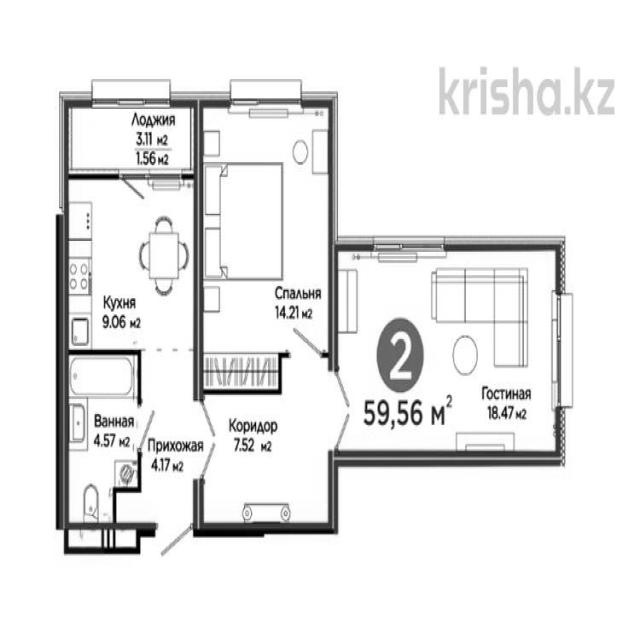balcony: (65, 99, 196, 174)
bathroom: (64, 353, 140, 523)
hallway: (140, 351, 330, 526)
kitchen: (67, 179, 195, 349)
living_room: (336, 251, 564, 463), (199, 100, 327, 358)
